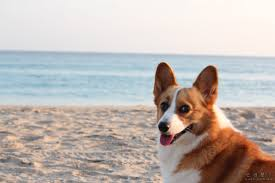dog: (156, 98, 197, 148)
